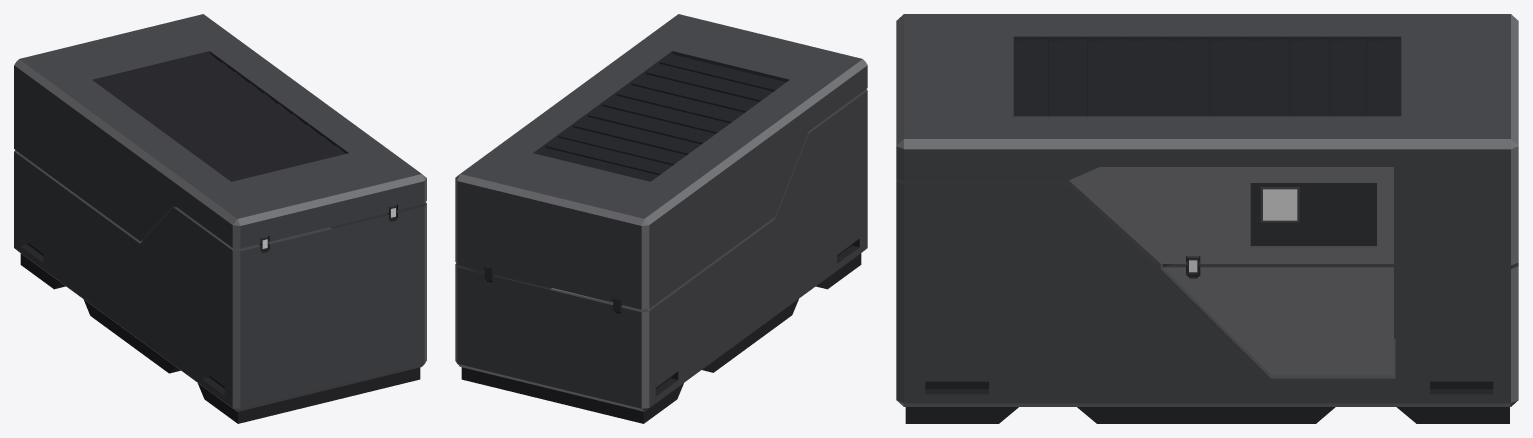
3 renders of one model, left to right at view 1: azimuth 30°, elevation 25°; view 2: azimuth 150°, elevation 25°; view 3: azimuth 270°, elevation 25°, orthographic. The views are drawn at different scales.
Visible parts, largest first — view 1: LOD_0; view 2: LOD_0; view 3: LOD_0, Emission.
Part boxes in pixels (x1=…): LOD_0: x1=14, y1=14, x2=426, y2=423; LOD_0: x1=455, y1=14, x2=867, y2=423; LOD_0: x1=896, y1=14, x2=1518, y2=423; Emission: x1=1189, y1=189, x2=1297, y2=272.
Size of what is drawn, in the model's own units: 200 by 203 by 400.
